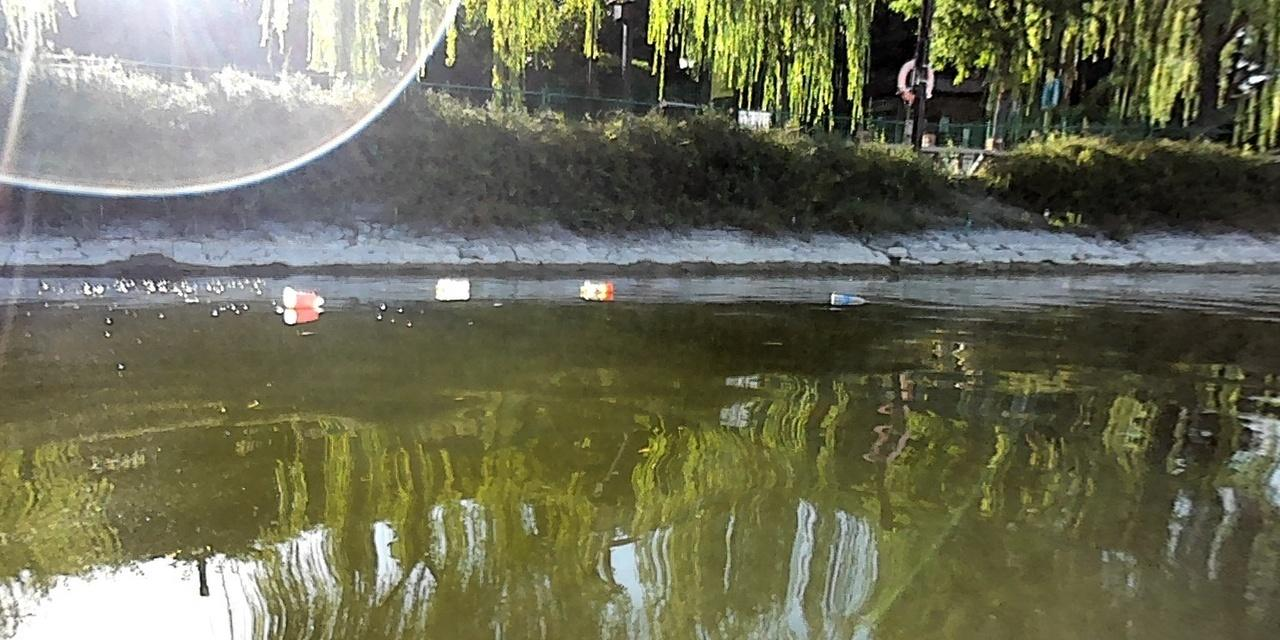bottle: (279, 287, 325, 309), (825, 291, 868, 306), (577, 279, 617, 294)
